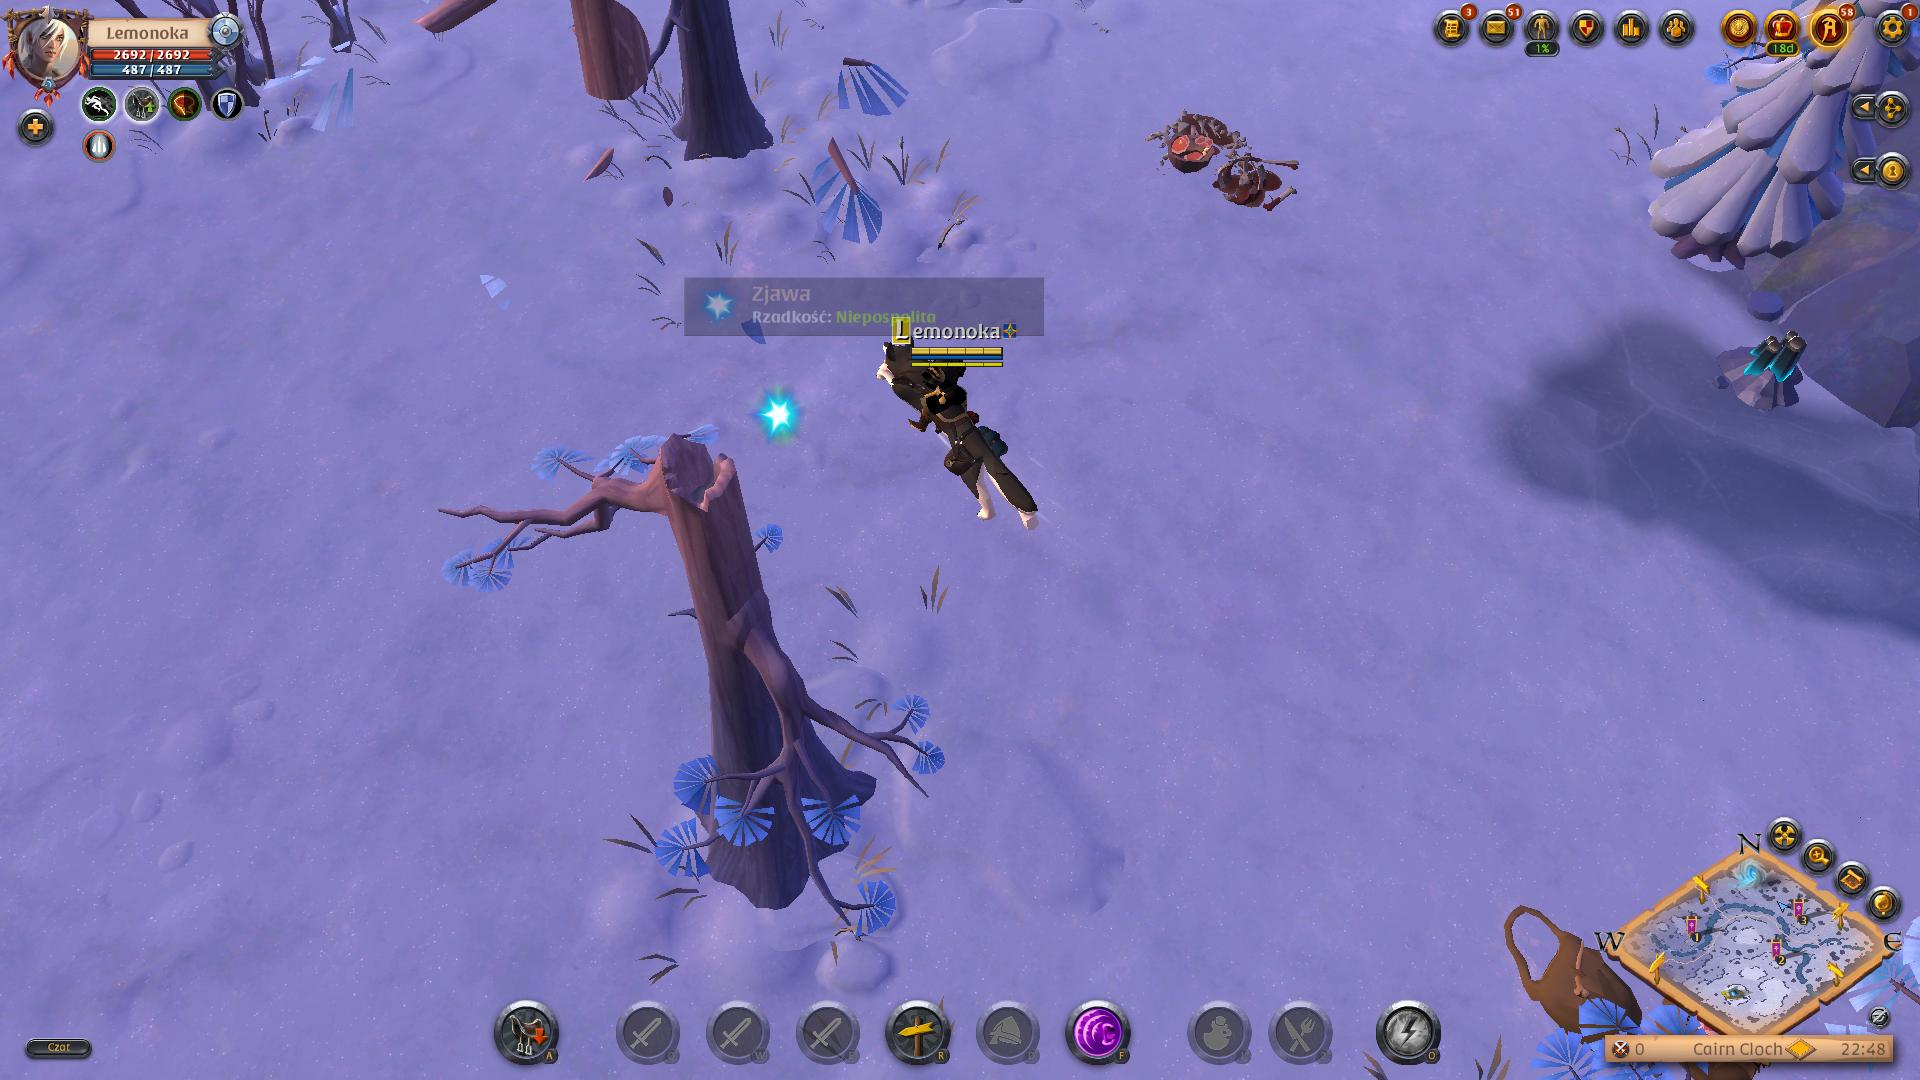ore tier 4: (1725, 331, 1807, 429)
